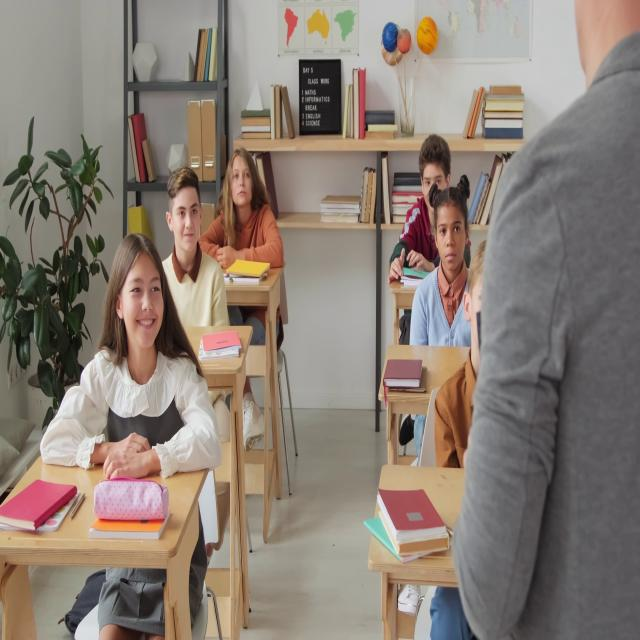listening: (40, 235, 224, 638), (202, 150, 286, 432), (375, 122, 465, 291), (161, 167, 231, 341), (432, 242, 486, 467), (410, 180, 474, 352)
